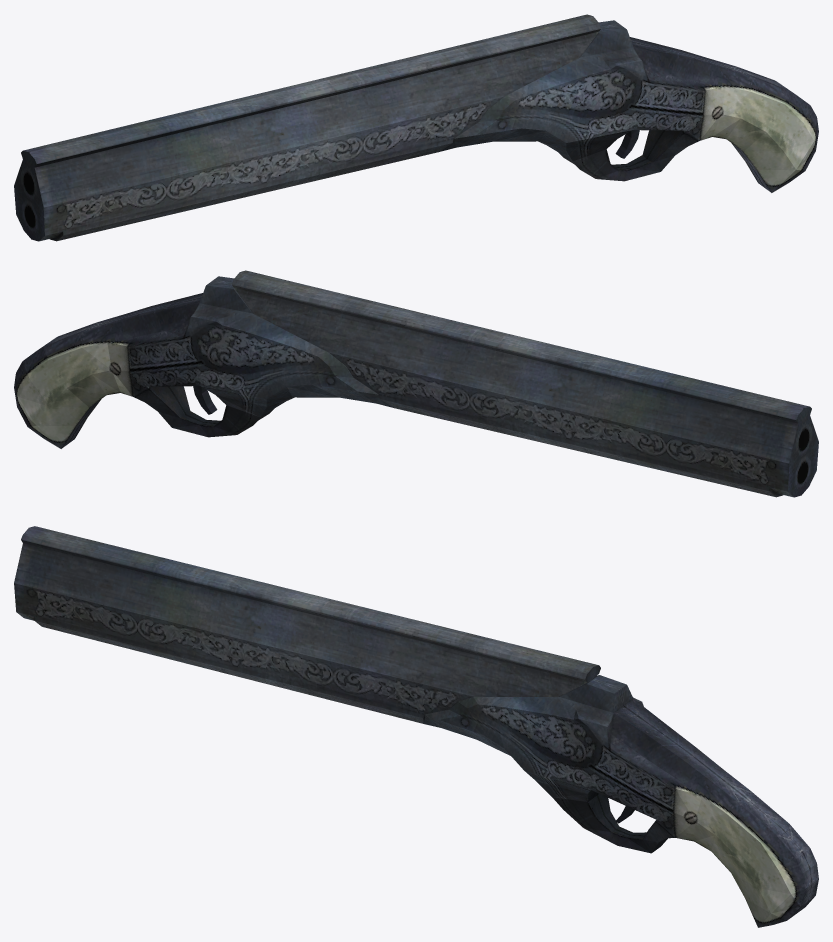
File: revenant.obj
3 views of the same model, one above another, from view 1: azimuth 30°, elevation 25°; view 2: azimuth 150°, elevation 25°; view 3: azimuth 330°, elevation 25° (orthographic).
Visible parts, largest first — view 1: rdmobj00.008; view 2: rdmobj00.008; view 3: rdmobj00.008.
Boxes of the visible parts, <box> form: rdmobj00.008: <box>14,14,818,241</box>; rdmobj00.008: <box>14,270,818,497</box>; rdmobj00.008: <box>14,526,818,927</box>.
Size of the model in its own units: 1.89 by 0.4961 by 0.1765.
Materials: 1 (1 with a texture image).
